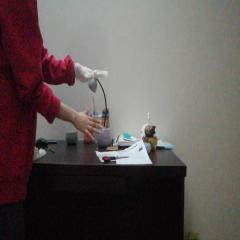gloved: (75, 63, 109, 82)
not-gloved: (74, 110, 103, 141)
